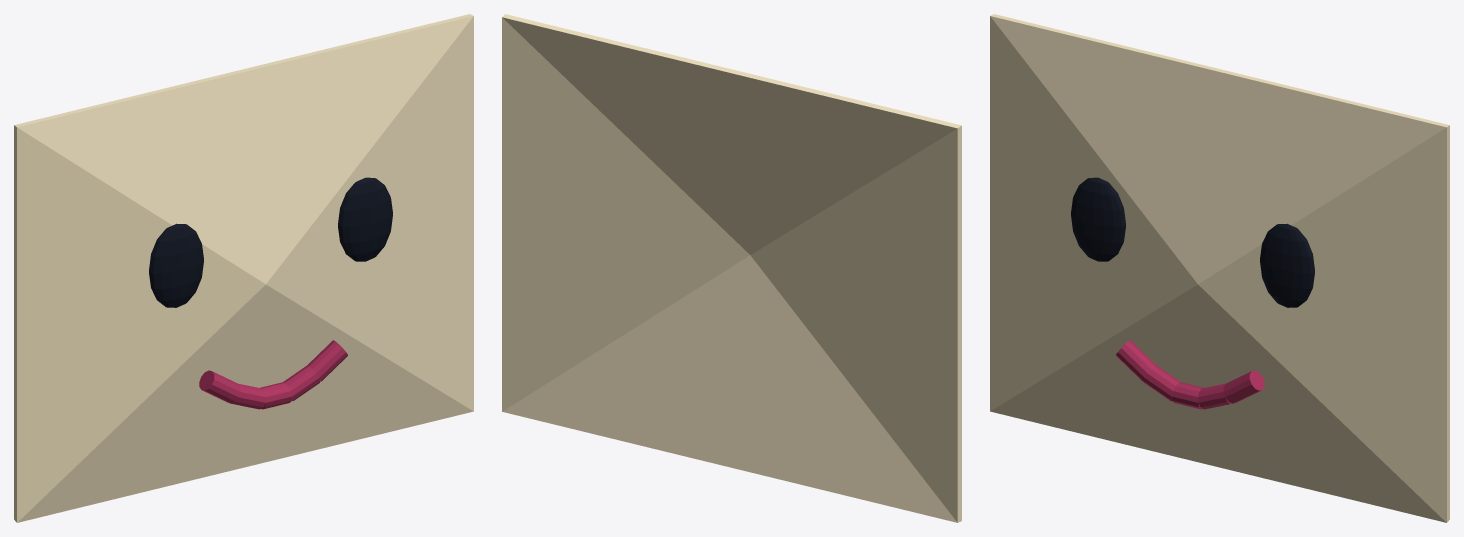
Rendered from Face_emote_wave.fbx.
The picture shows the model from 3 angles, left to right: view 1: azimuth 30°, elevation 25°; view 2: azimuth 150°, elevation 25°; view 3: azimuth 330°, elevation 25°; orthographic projection.
Visible parts, largest first — view 1: Face_emote_wave.Mesh; view 2: Face_emote_wave.Mesh; view 3: Face_emote_wave.Mesh.
Boxes of the visible parts, bbox=[...] form: Face_emote_wave.Mesh: bbox=[14, 14, 473, 522]; Face_emote_wave.Mesh: bbox=[502, 14, 961, 522]; Face_emote_wave.Mesh: bbox=[990, 14, 1449, 522].
Bounding box in the file's own units: 58 × 48 × 8.19.
